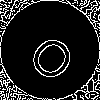O: (25, 25, 85, 86)
